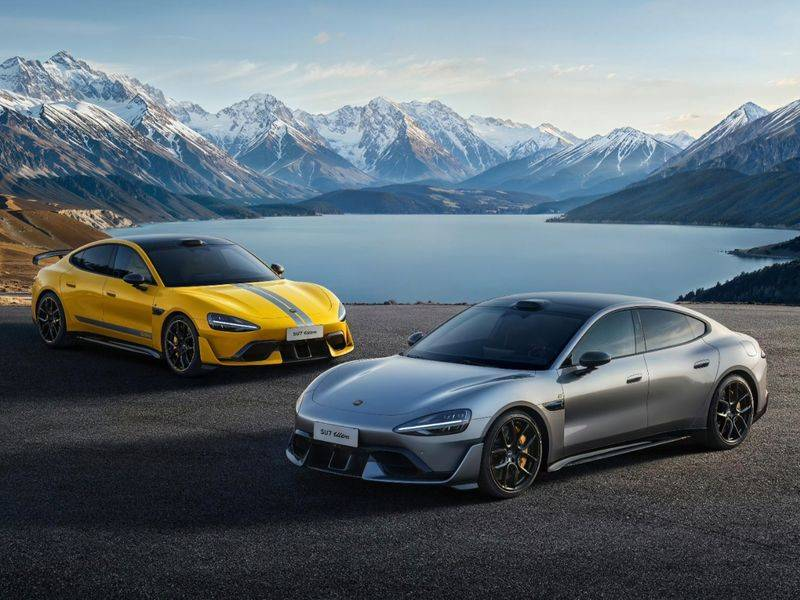su7: (303, 284, 772, 482), (32, 226, 352, 374)
